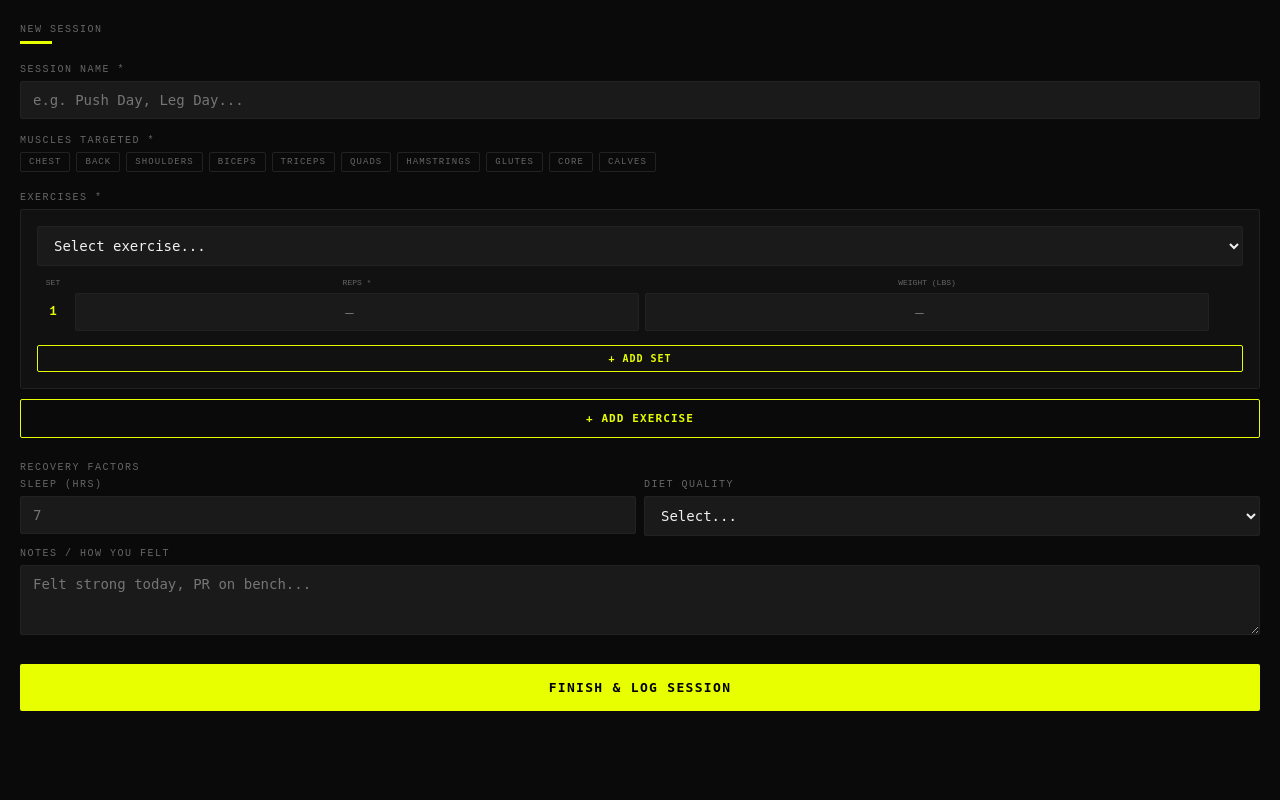
Test: LogWorkout component › US-01: shows error if saving with no muscles selected
In the field with test id "workout-name": (640, 100) [20, 81, 1260, 119], type "Push Day"
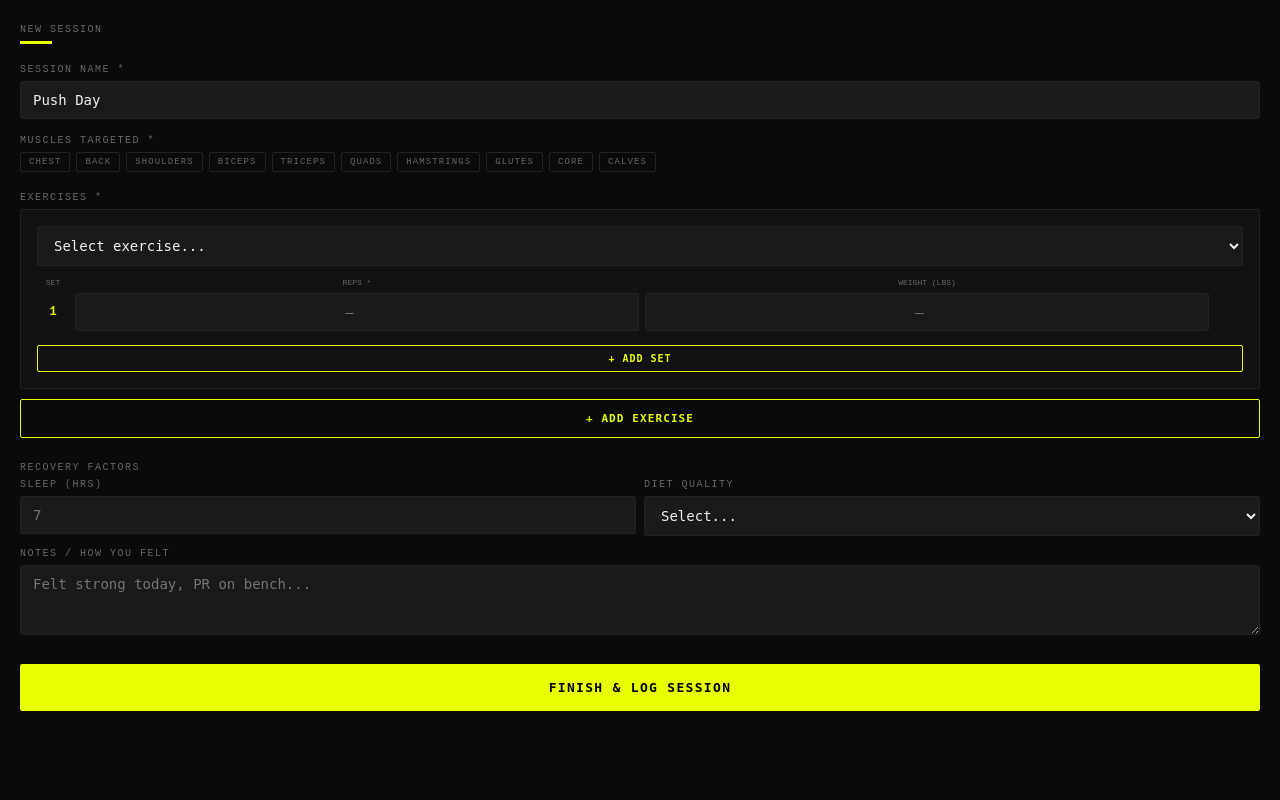
Click the button with test id "save-workout": (640, 688) [20, 664, 1260, 711]
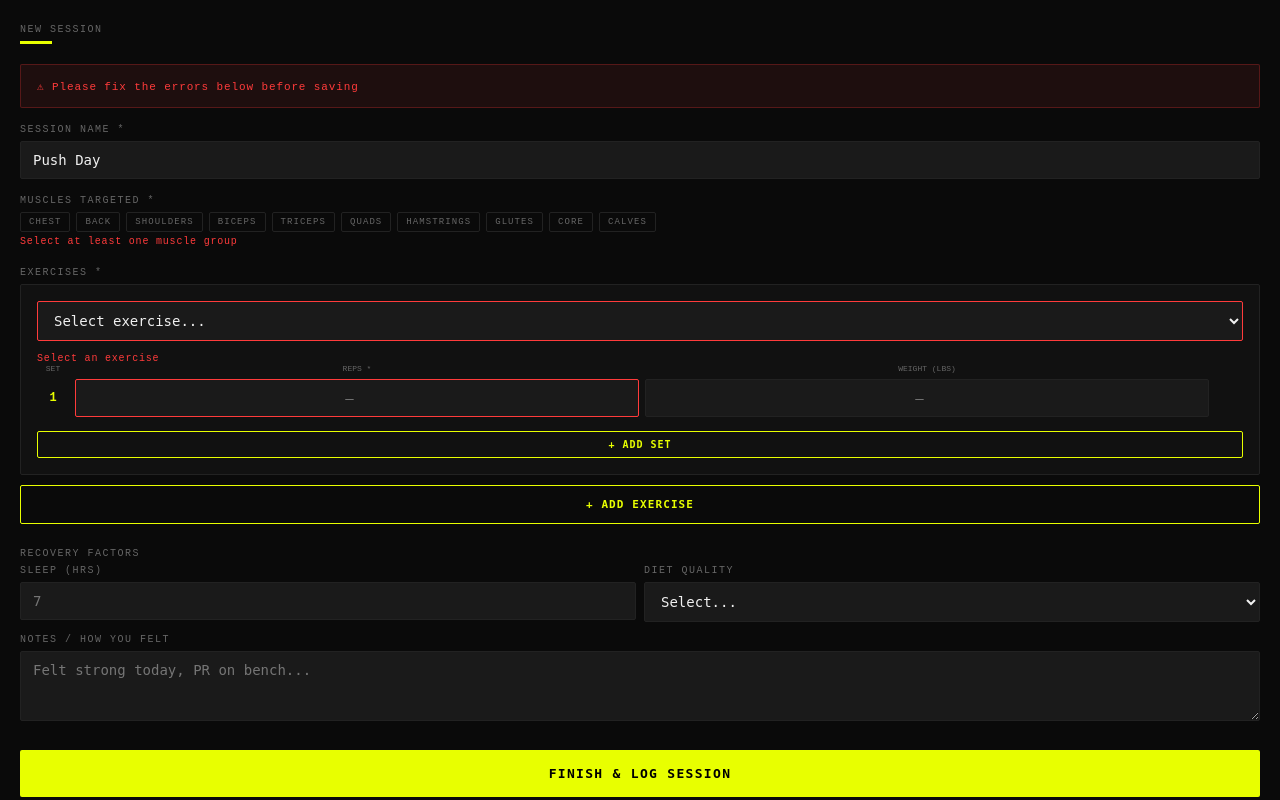
Now the text "Select at least one muscle group" is shown, box [20, 236, 238, 247]
